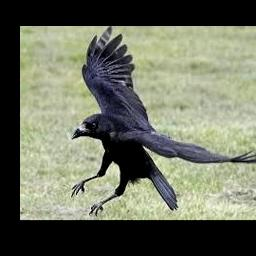Crow: (71, 26, 256, 215)
